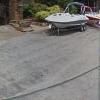Boat: (41, 6, 89, 35)
